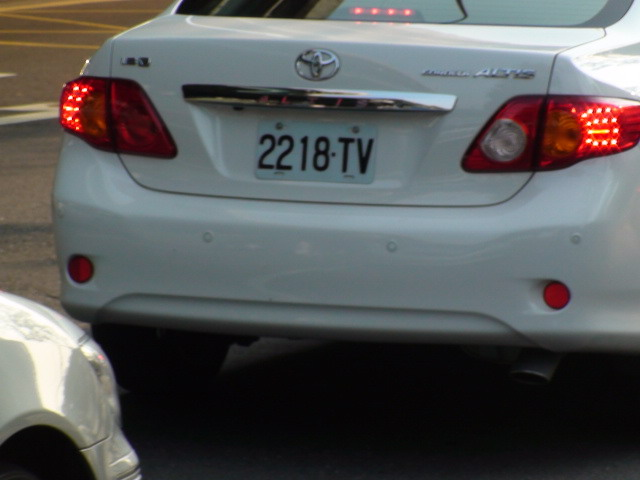plate: (252, 118, 378, 183)
